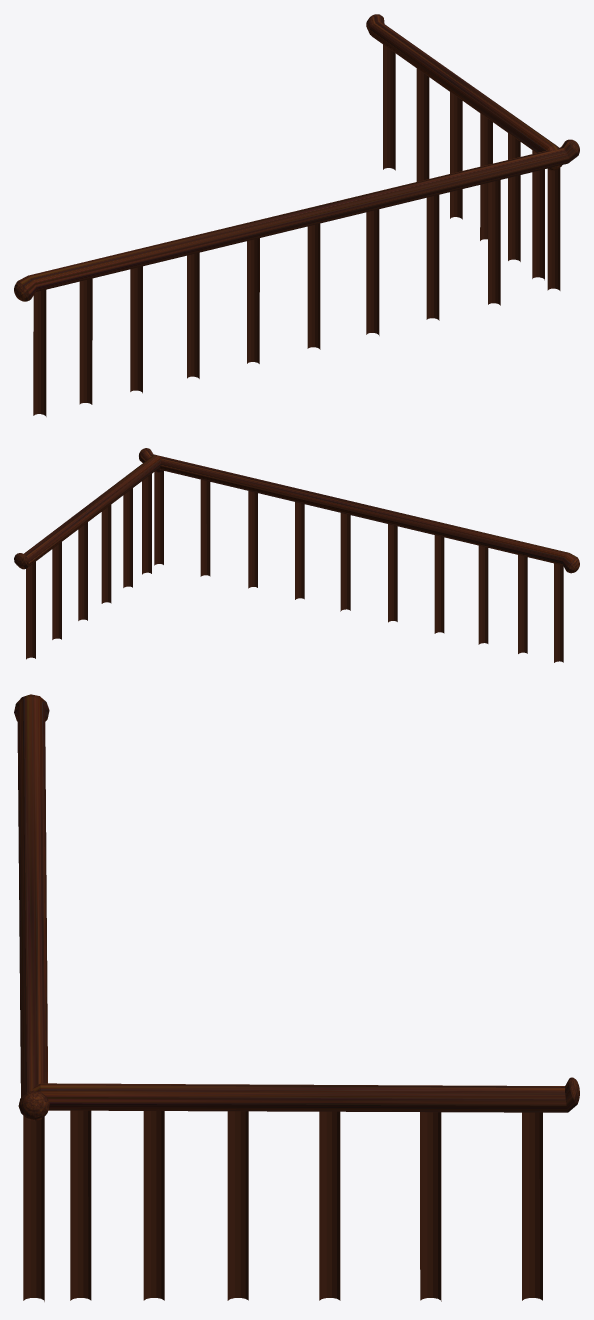
Rendered from Agarre-Escalera.fbx.
3 renders of one model, top to bottom at view 1: azimuth 30°, elevation 25°; view 2: azimuth 150°, elevation 25°; view 3: azimuth 270°, elevation 25°, orthographic. The views are drawn at different scales.
Visible parts, largest first — view 1: Escalera.002; view 2: Escalera.002; view 3: Escalera.002.
Part boxes in pixels (x1,y1,x2,y2): Escalera.002: [14, 14, 579, 416]; Escalera.002: [14, 448, 579, 662]; Escalera.002: [14, 694, 579, 1301].
Size of the model in its own units: 2805 by 699 by 1612.
